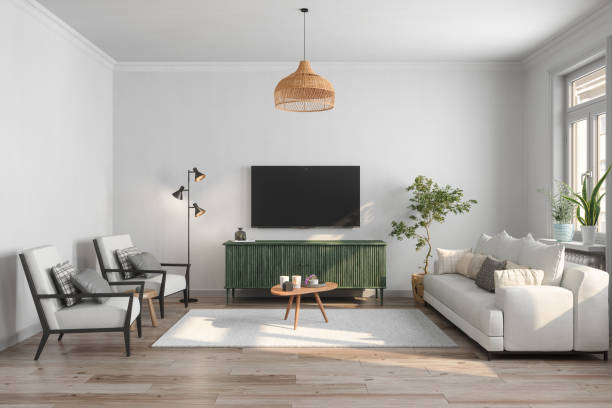TV: (247, 162, 363, 230)
TV stand: (223, 238, 388, 306)
chair: (16, 242, 145, 361), (92, 231, 191, 317)
floor lamp: (169, 164, 206, 308)
large plant: (391, 174, 475, 302)
small plant: (568, 167, 611, 243), (547, 176, 578, 241)
sofa: (421, 228, 612, 362)
table: (269, 274, 339, 330)
